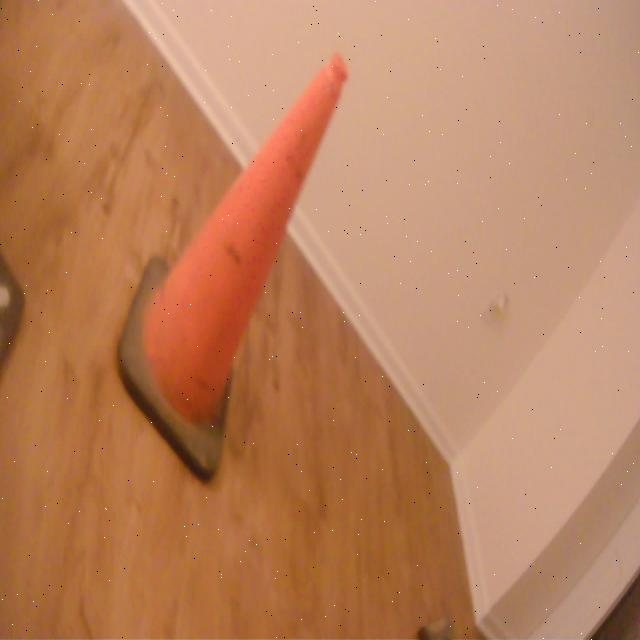traffic cone: (108, 43, 354, 498)
